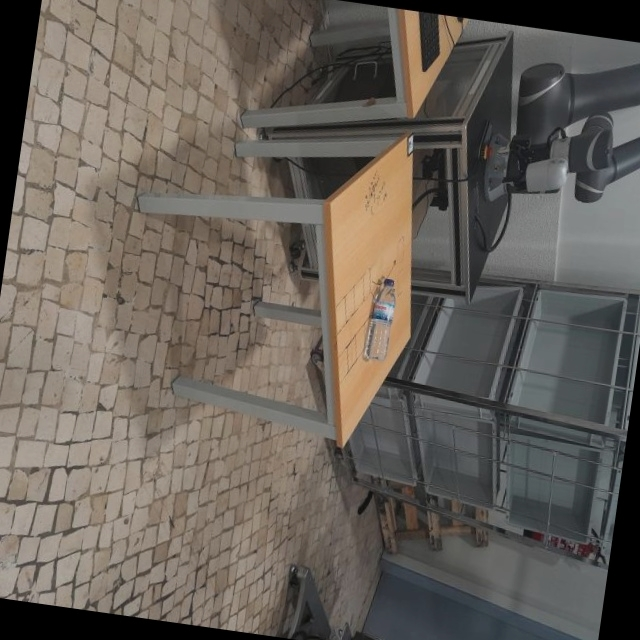Plastic-bottle: (368, 267, 394, 355)
